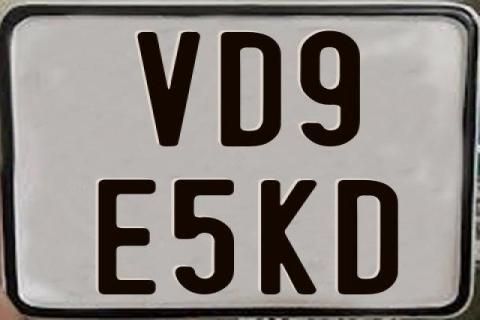0: (171, 178, 237, 298), (300, 29, 364, 145)
D: (335, 179, 395, 297), (219, 30, 279, 146)
E: (96, 178, 154, 296)
K: (261, 179, 318, 295)
V: (135, 32, 201, 146)
